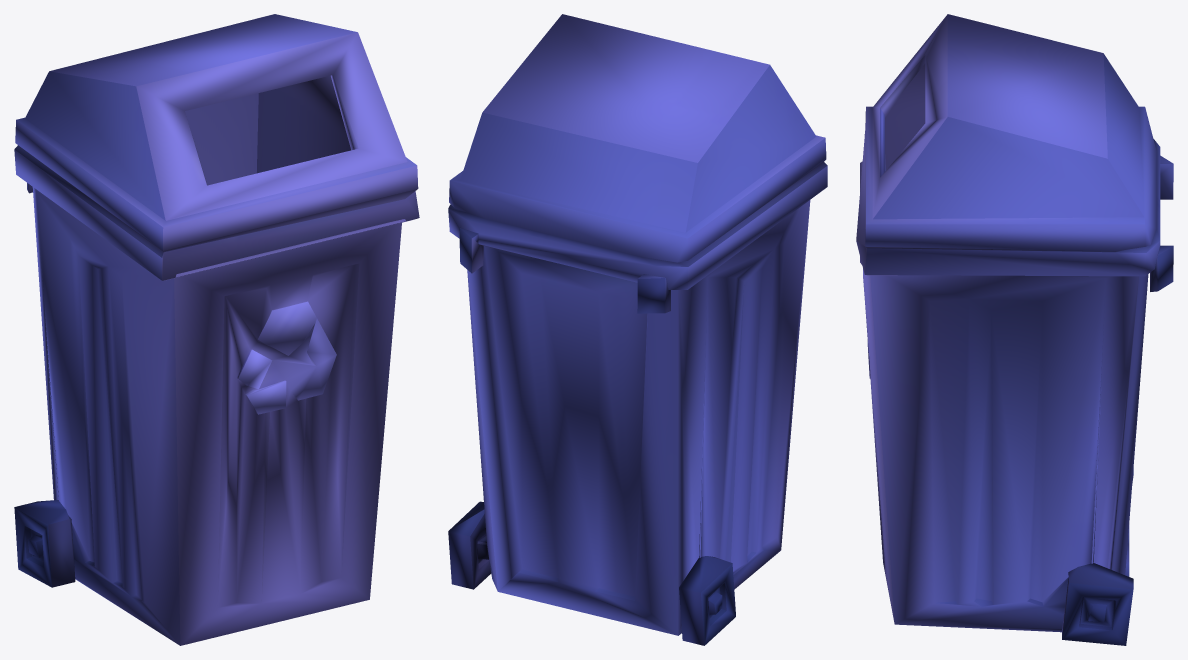
File: model.progressive.glb
3 views of the same model, side by side, from view 1: azimuth 30°, elevation 25°; view 2: azimuth 150°, elevation 25°; view 3: azimuth 270°, elevation 25° (orthographic). The views are drawn at different scales.
Visible parts, largest first — view 1: mesh_input; view 2: mesh_input; view 3: mesh_input.
Part boxes in pixels (<box>): mesh_input: <box>14,14,419,645</box>; mesh_input: <box>448,14,827,645</box>; mesh_input: <box>856,14,1173,645</box>.
Bounding box in the file's own units: 0.957 × 1.85 × 1.02.
1 material, 1 textured.
